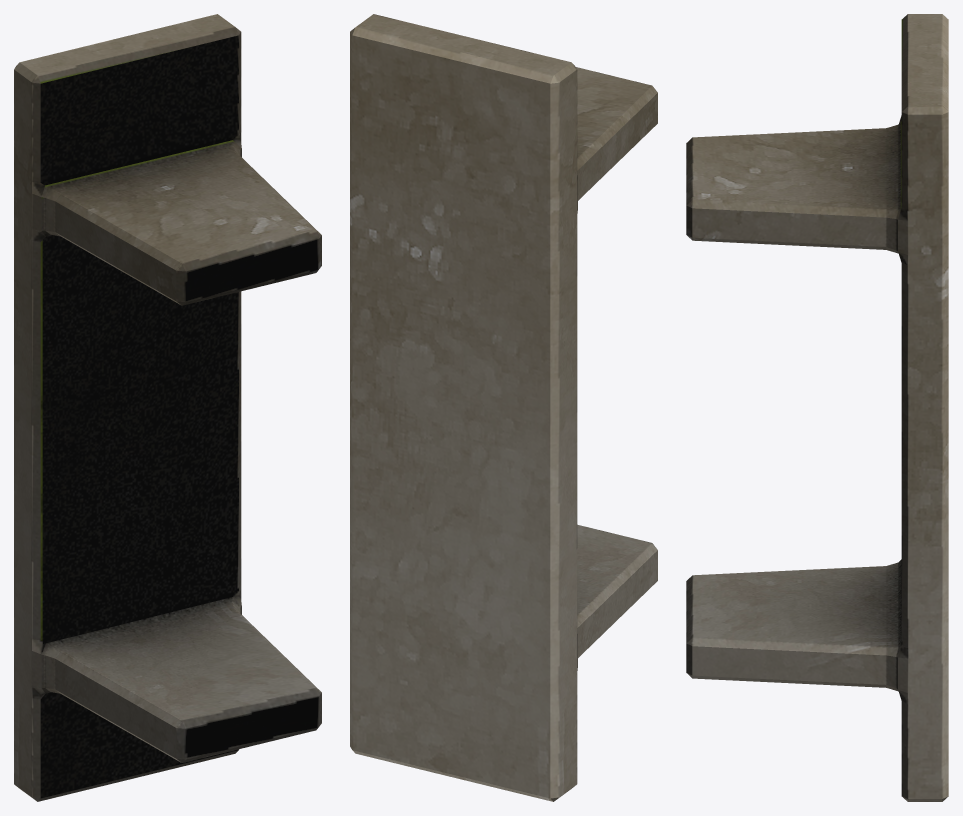
Rendered from BANCO01.fbx.
3 renders of one model, left to right at view 1: azimuth 30°, elevation 25°; view 2: azimuth 150°, elevation 25°; view 3: azimuth 270°, elevation 25°, orthographic. The views are drawn at different scales.
Parts seen in each view (by area): view 1: bench01; view 2: bench01; view 3: bench01.
Boxes of the visible parts, <box> form: bench01: <box>14,14,321,801</box>; bench01: <box>350,14,657,801</box>; bench01: <box>686,14,948,801</box>.
Bounding box in the file's own units: 58.7 × 195 × 66.57.
